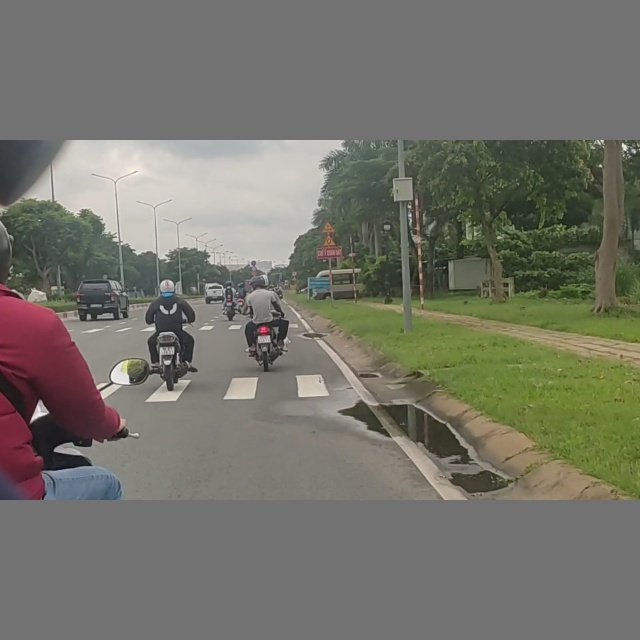P.130: (251, 260, 257, 265)
W.245a: (321, 221, 335, 233)
W.246a: (323, 235, 336, 247)
